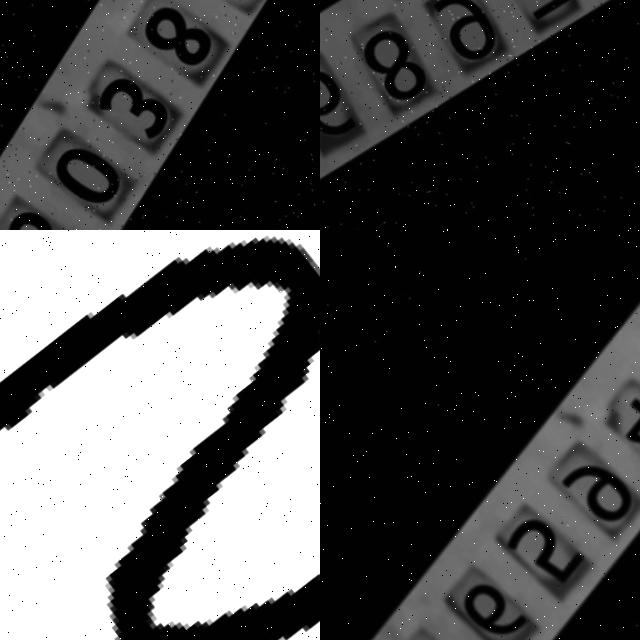0: (21, 111, 148, 230), (153, 0, 283, 35)
3: (66, 45, 196, 177)
4: (589, 371, 640, 492)
5: (480, 492, 601, 616)
6: (433, 560, 542, 640), (320, 45, 376, 164), (0, 175, 102, 230)
7: (477, 0, 588, 39)
8: (111, 0, 239, 104), (336, 9, 447, 123)
9: (536, 434, 640, 553), (406, 0, 517, 83)
S: (0, 230, 320, 640)
